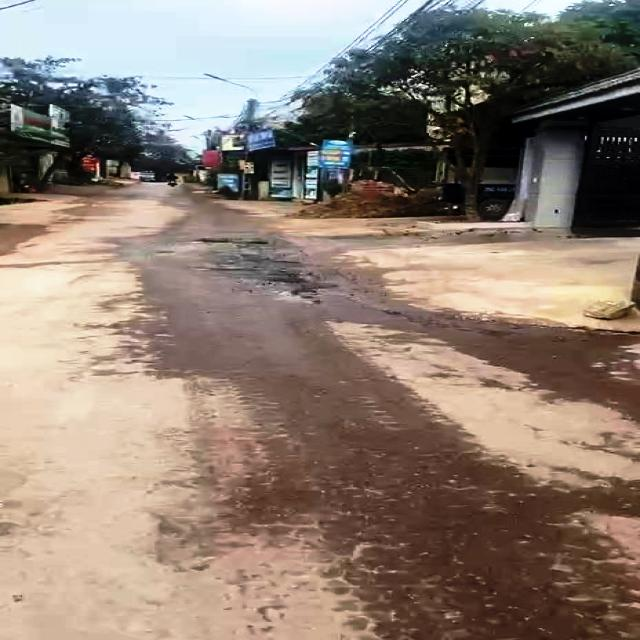pothole: (262, 274, 345, 307)
